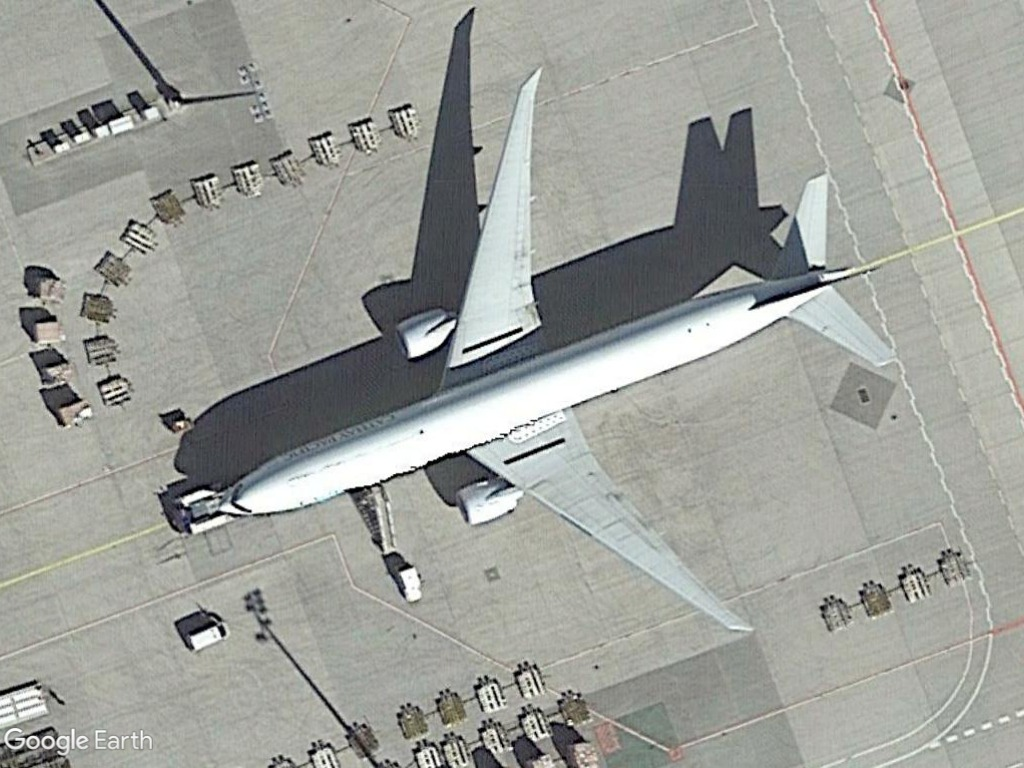airliner: (195, 55, 904, 643)
van: (177, 616, 244, 661)
